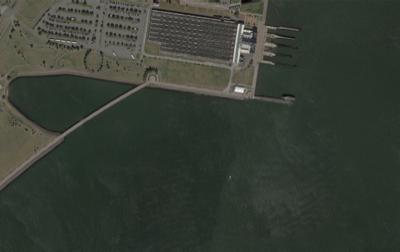Ships: (228, 164, 233, 179)
